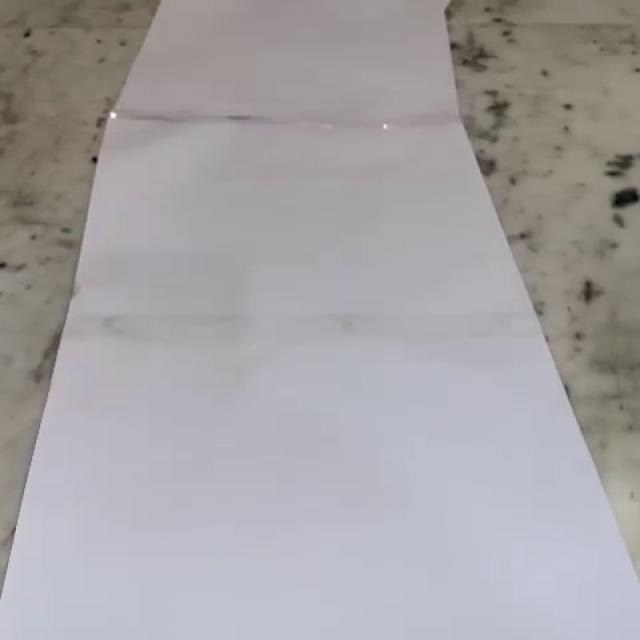road: (3, 0, 636, 640)
